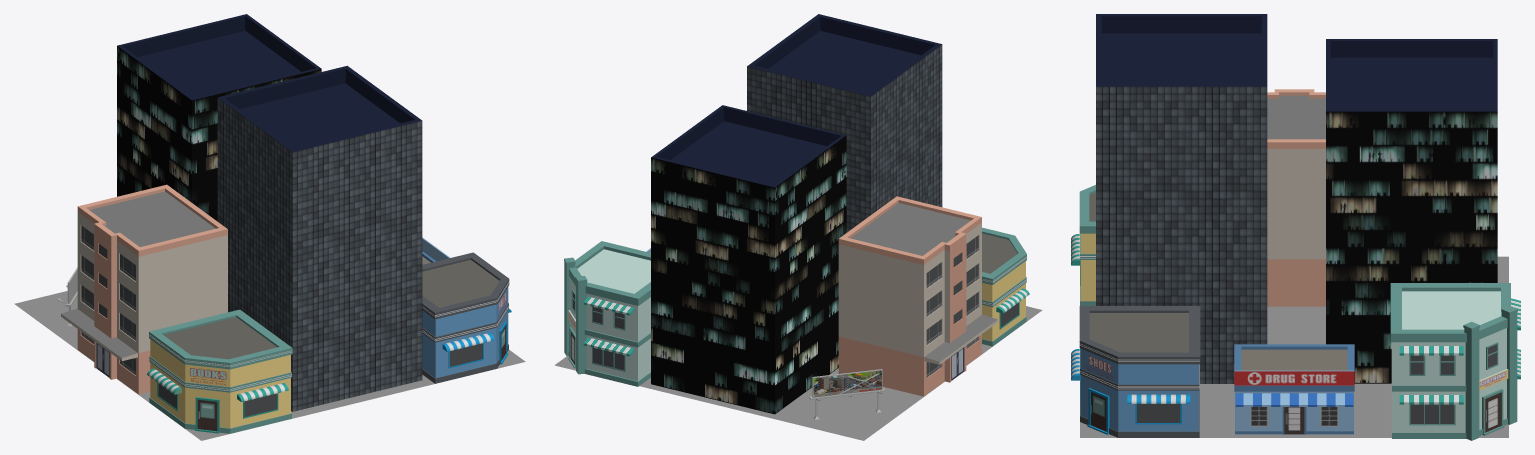
The model's file is shops.gltf.
3 renders of one model, left to right at view 1: azimuth 30°, elevation 25°; view 2: azimuth 150°, elevation 25°; view 3: azimuth 270°, elevation 25°, orthographic. The views are drawn at different scales.
Visible parts, largest first — view 1: Cube002, Building_Sky_small_color01_Cube028, Building_Books_Shop_Cube018, Cube001_1, Building_Shoes_Shop_Cube015, Cube001_2, Cube002_1, Road_Concrete_Tile_Plane010; view 2: Cube001_1, Building_Sky_small_color01_Cube028, Cube002, Building_Clothing_Cube004, Cube001_2, Cube002_1, Road_Concrete_Tile_Plane010, Building_Books_Shop_Cube018, Props_BillBoard_large_Cube528; view 3: Cube002, Cube001_1, Building_Clothing_Cube004, Building_Shoes_Shop_Cube015, Building_Sky_small_color01_Cube028, Cube001_2, Cube002_1, Building_Drug_Store_Cube008, Road_Concrete_Tile_Plane010, Building_Books_Shop_Cube018.
Part boxes in pixels (<box>): Cube002: <box>217,98,422,411</box>; Building_Sky_small_color01_Cube028: <box>61,184,227,394</box>; Building_Books_Shop_Cube018: <box>147,309,292,433</box>; Cube001_1: <box>117,46,321,221</box>; Building_Shoes_Shop_Cube015: <box>422,252,511,383</box>; Cube001_2: <box>117,14,321,100</box>; Cube002_1: <box>218,65,421,152</box>; Road_Concrete_Tile_Plane010: <box>14,291,525,440</box>; Cube001_1: <box>651,135,846,414</box>; Building_Sky_small_color01_Cube028: <box>838,196,997,396</box>; Cube002: <box>747,44,942,232</box>; Building_Clothing_Cube004: <box>564,241,650,386</box>; Cube001_2: <box>651,105,845,187</box>; Cube002_1: <box>747,14,941,96</box>; Road_Concrete_Tile_Plane010: <box>554,306,1042,440</box>; Building_Books_Shop_Cube018: <box>982,227,1029,346</box>; Props_BillBoard_large_Cube528: <box>809,369,885,419</box>; Cube002: <box>1096,86,1267,383</box>; Cube001_1: <box>1326,111,1497,383</box>; Building_Clothing_Cube004: <box>1390,283,1520,440</box>; Building_Shoes_Shop_Cube015: <box>1071,306,1200,437</box>; Building_Sky_small_color01_Cube028: <box>1267,89,1325,306</box>; Cube001_2: <box>1326,39,1497,111</box>; Cube002_1: <box>1096,14,1267,86</box>; Building_Drug_Store_Cube008: <box>1234,344,1354,434</box>; Road_Concrete_Tile_Plane010: <box>1080,256,1508,437</box>; Building_Books_Shop_Cube018: <box>1071,185,1095,305</box>.
Size of the model in its own units: 43.15 by 30.8 by 41.94.
Materials: 10 (9 with a texture image).
